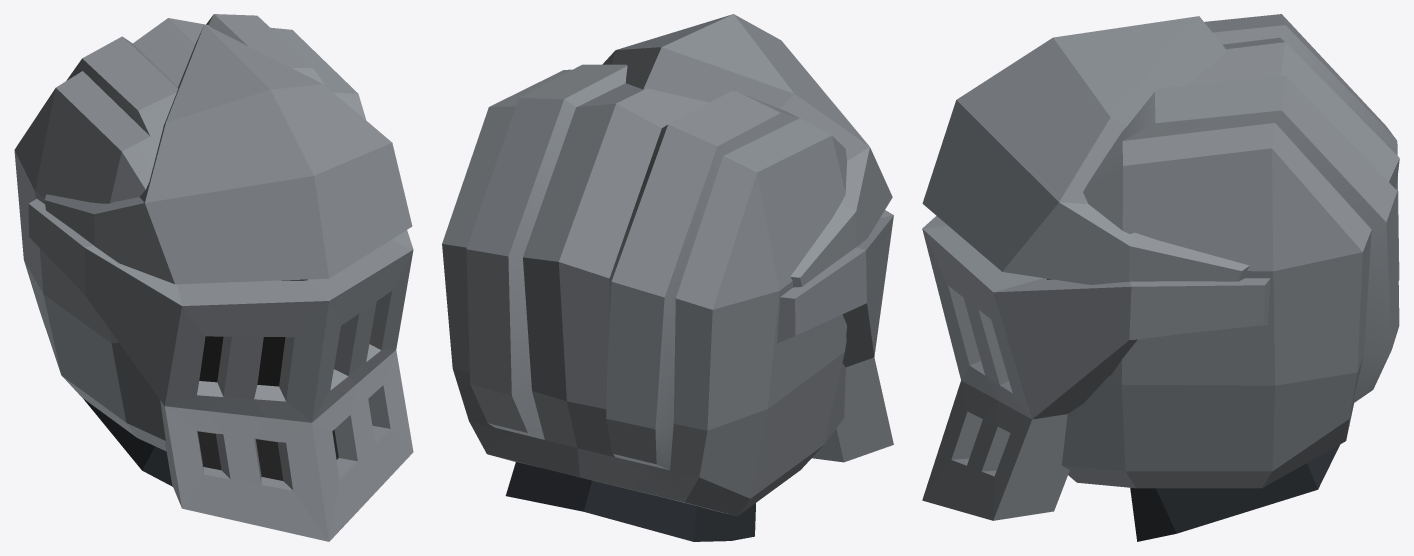
File: Chr_Head_No_Elements_Male_03_Static.fbx
3 views of the same model, side by side, from view 1: azimuth 30°, elevation 25°; view 2: azimuth 150°, elevation 25°; view 3: azimuth 270°, elevation 25° (orthographic). The views are drawn at different scales.
Parts seen in each view (by area): view 1: Chr_Head_No_Elements_Male_03_Static; view 2: Chr_Head_No_Elements_Male_03_Static; view 3: Chr_Head_No_Elements_Male_03_Static.
Part boxes in pixels (x1,y1,x2,y2): Chr_Head_No_Elements_Male_03_Static: (14, 14, 413, 541); Chr_Head_No_Elements_Male_03_Static: (442, 14, 893, 541); Chr_Head_No_Elements_Male_03_Static: (922, 14, 1399, 541).
Size of the model in its own units: 0.2549 by 0.3594 by 0.307.
